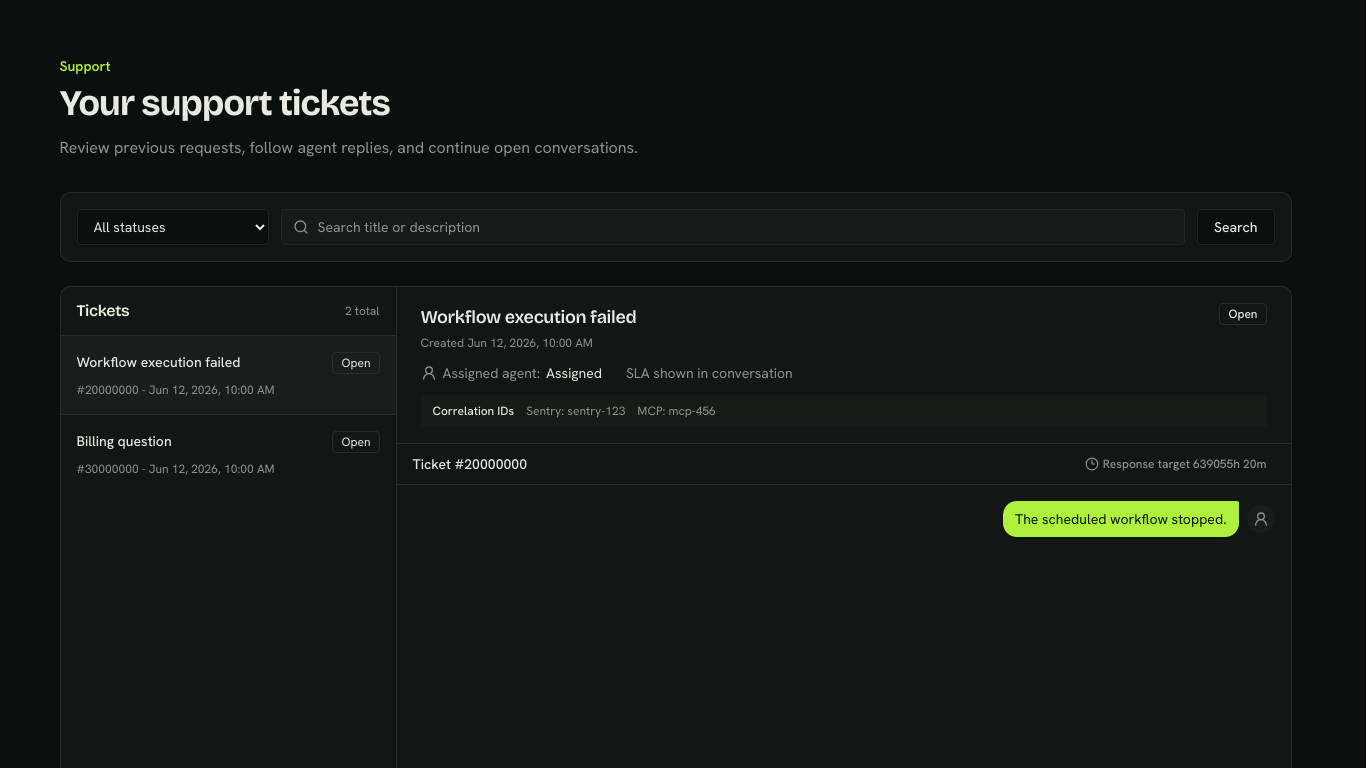
Test: user ticket history › ignores an older detail response that completes after the newly selected ticket
Click the button "Billing question Open #30000000 - Jun 12, 2026, 10:00 AM" at (124, 441), box [60, 415, 396, 493]
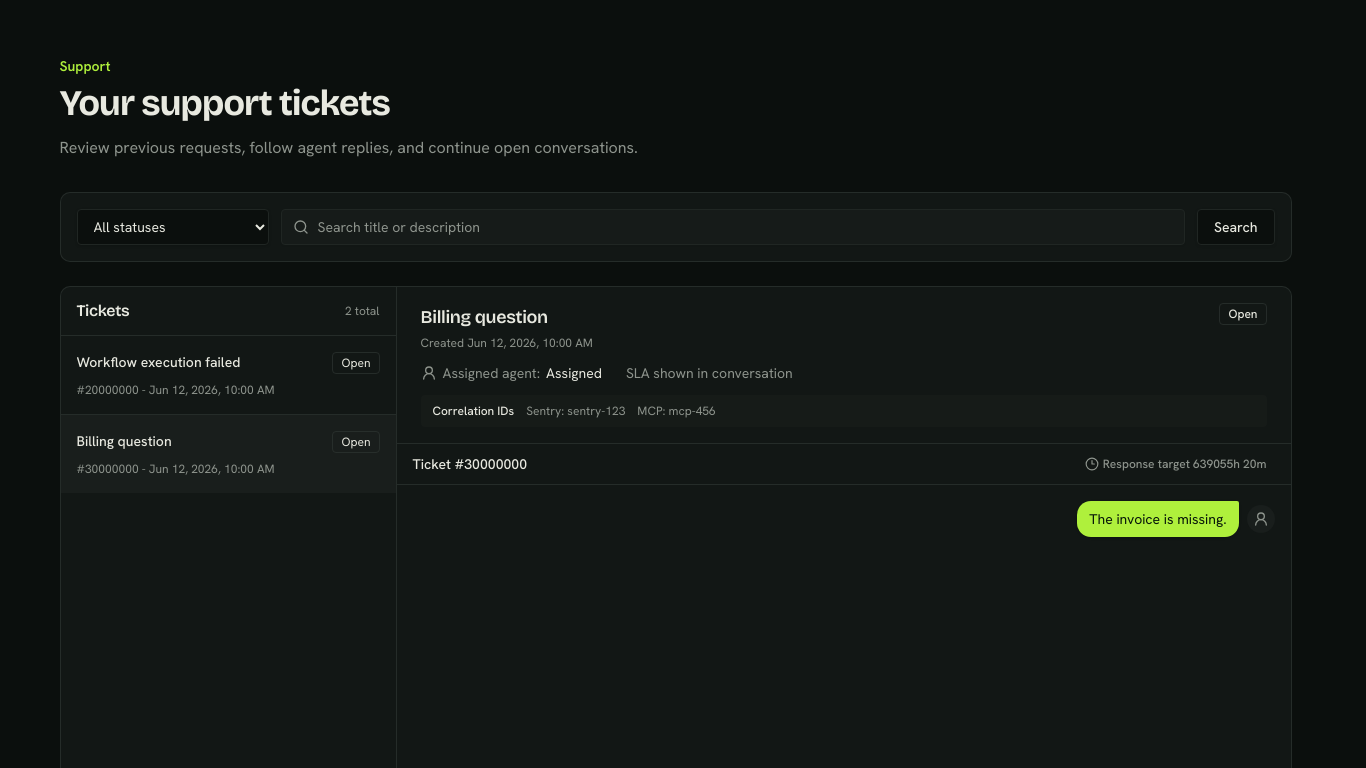
Now the text "The invoice is missing." is shown, box [1089, 509, 1226, 529]
Now the text "The scheduled workflow stopped." is gone
